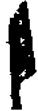Reed: (6, 0, 37, 111)
